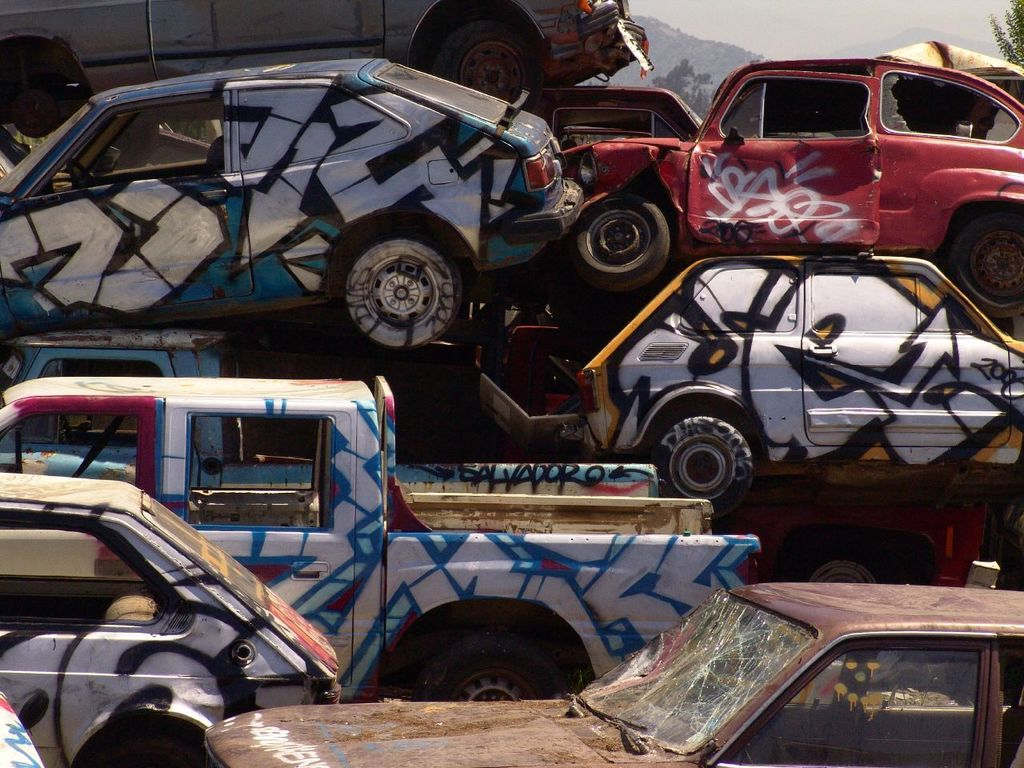car: (1, 359, 778, 698), (1, 40, 585, 369), (196, 577, 1024, 768), (545, 30, 1024, 294), (559, 234, 1024, 499), (1, 477, 340, 750)
